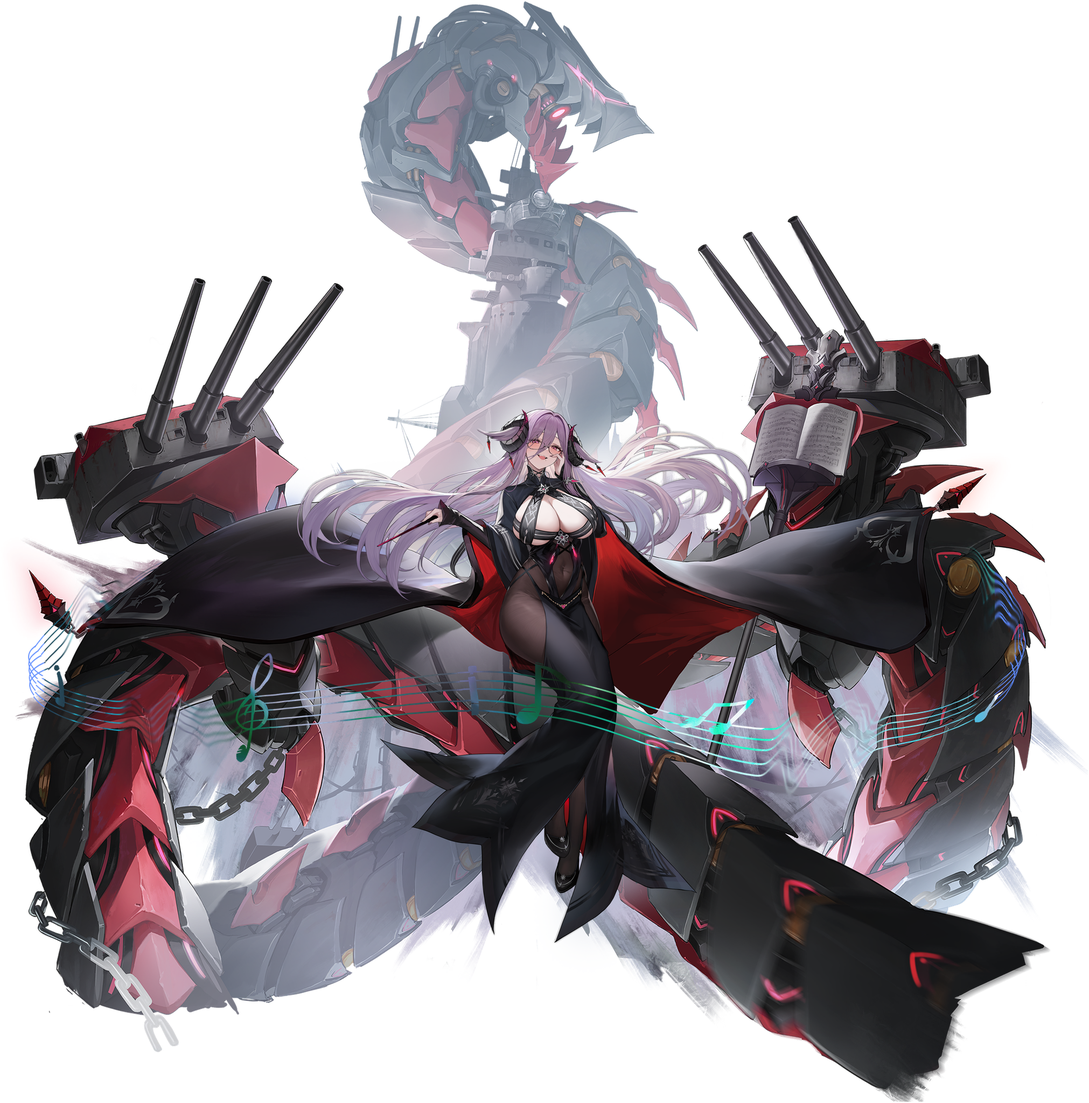person: (399, 374, 664, 972)
